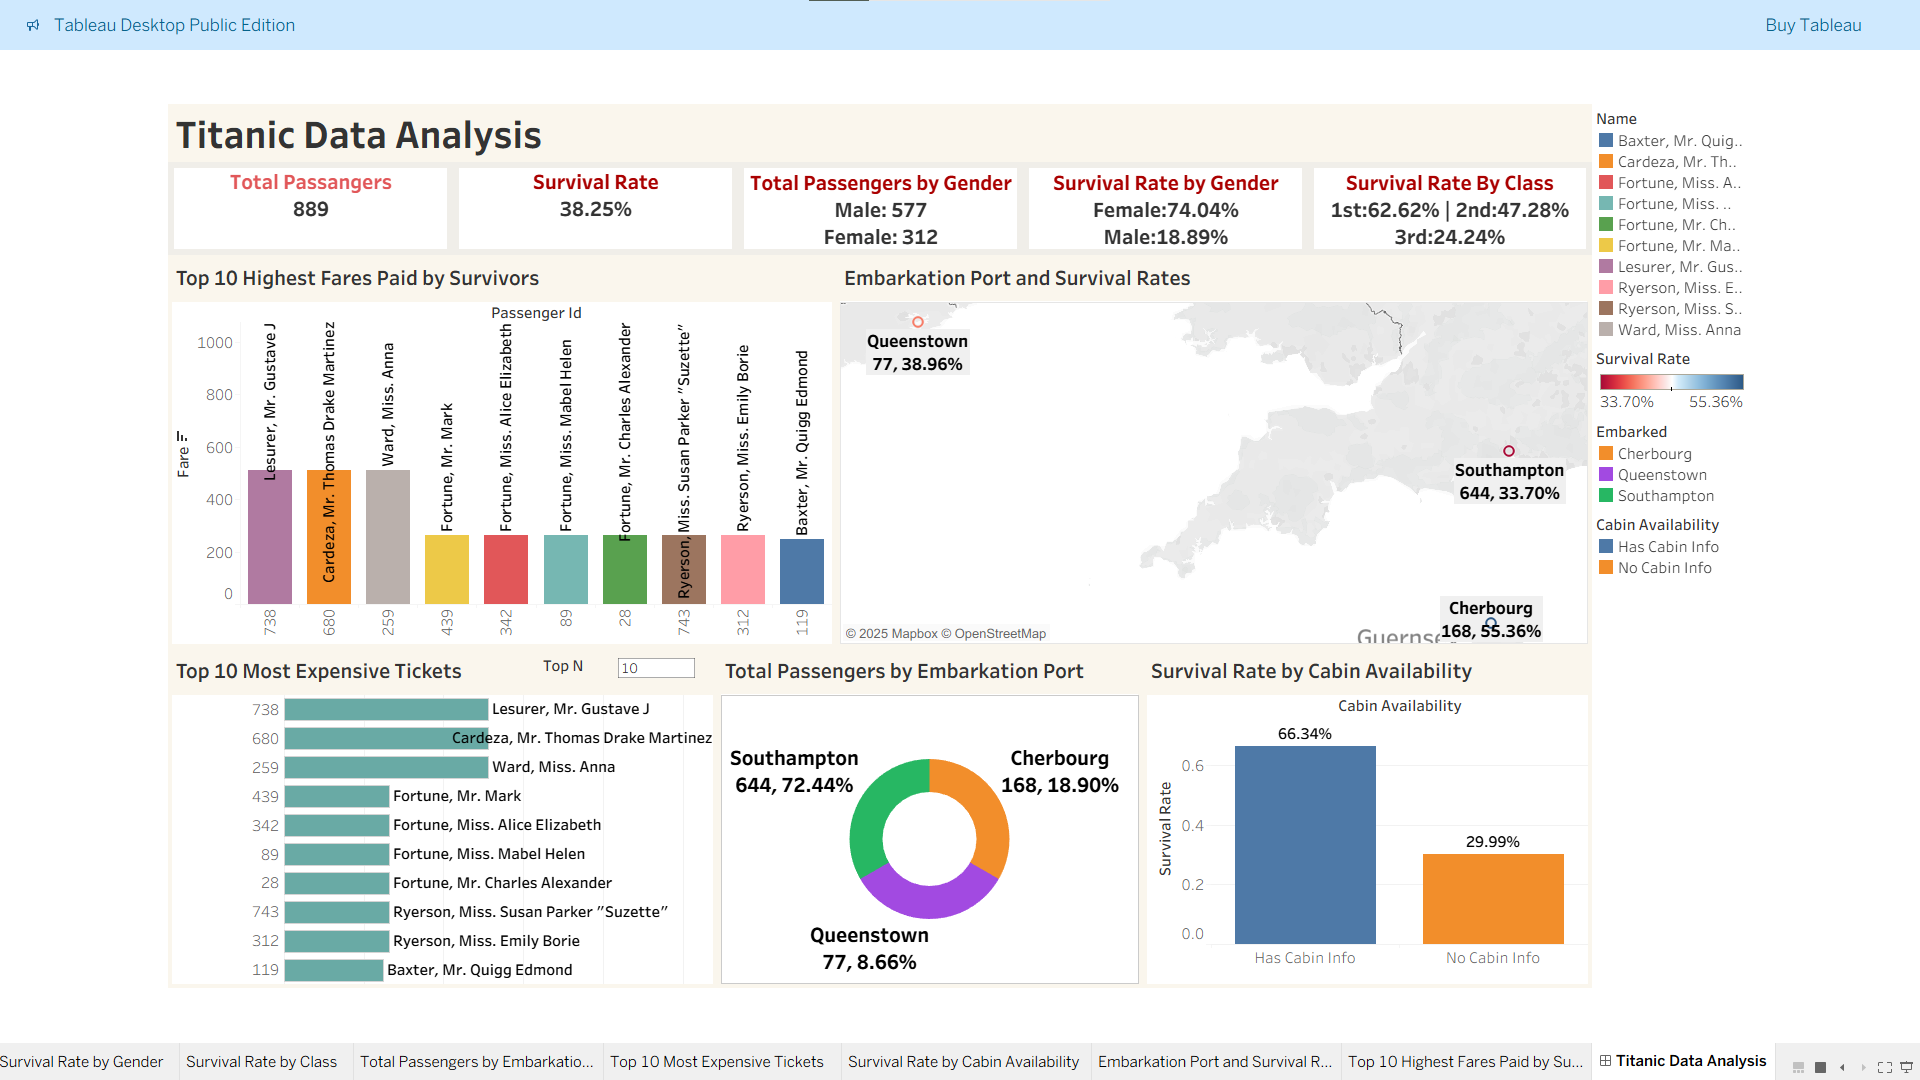

What the dashboard file says about the page in this screenshot:
{"tool":"tableau","page":{"name":"Titanic Data Analysis","canvas":[1600,900],"ordinal":0},"visuals":[{"type":"title","box":[8,8,1424,58]},{"type":"legend","title":"Top 10 Highest Fares Paid by Survivors","param":"[federated.1g5zkau03c3xbt1h0rss10n2ar2i].[none:Name:nk]","box":[1432,8,160,240]},{"type":"worksheet","title":"Total Passangers","mark":"Automatic","box":[8,66,285,93]},{"type":"worksheet","title":"Survival Rate","mark":"Automatic","box":[293,66,285,93]},{"type":"worksheet","title":"Total Passengers by Gender","mark":"Text","box":[578,66,285,93]},{"type":"worksheet","title":"Survival Rate by Gender","mark":"Automatic","box":[863,66,285,93]},{"type":"worksheet","title":"Survival Rate by Class","mark":"Automatic","box":[1148,66,284,93]},{"type":"worksheet","title":"Top 10 Highest Fares Paid by Survivors","mark":"Automatic","rows":["Fare"],"cols":["PassengerId"],"box":[8,159,668,393]},{"type":"worksheet","title":"Embarkation Port and Survival Rates","mark":"Shape","rows":["Latitude"],"cols":["Longitude"],"box":[676,159,756,393]},{"type":"legend","title":"Embarkation Port and Survival Rates","param":"[federated.1g5zkau03c3xbt1h0rss10n2ar2i].[usr:Calculation_927178610376269826:qk]","box":[1432,248,160,73]},{"type":"legend","title":"Total Passengers by Embarkation Port","param":"[federated.1g5zkau03c3xbt1h0rss10n2ar2i].[none:Embarked:nk]","box":[1432,321,160,93]},{"type":"legend","title":"Survival Rate by Cabin Availability","param":"[federated.1g5zkau03c3xbt1h0rss10n2ar2i].[none:Calculation_824440244577460224:nk","box":[1432,414,160,72]},{"type":"worksheet","title":"Top 10 Most Expensive Tickets","mark":"Automatic","rows":["PassengerId"],"cols":["Fare"],"box":[8,552,549,339.9]},{"type":"worksheet","title":"Total Passengers by Embarkation Port","mark":"Pie","rows":["Calculation_1363746299655192581","Calculation_1363746299655192581"],"box":[557,552,426,339.9]},{"type":"worksheet","title":"Survival Rate by Cabin Availability","mark":"Bar","rows":["Calculation_927178610376269826"],"cols":["Calculation_824440244577460224"],"box":[983,552,449,339.9]},{"type":"parameter","param":"[Parameters].[Parameter 1]","box":[383,559,155,36]}]}

Visuals, with their boxes on the page's 1600x900 design canvas (x1, y1, x2, y2). These are canvas units, not pixel positions in the 1920x1080 screenshot, which may show the page scaled, cropped or inside an application window:
title: [8, 8, 1432, 66]
"Top 10 Highest Fares Paid by Survivors" legend: [1432, 8, 1592, 248]
"Total Passangers" worksheet: [8, 66, 293, 159]
"Survival Rate" worksheet: [293, 66, 578, 159]
"Total Passengers by Gender" worksheet (Text marks): [578, 66, 863, 159]
"Survival Rate by Gender" worksheet: [863, 66, 1148, 159]
"Survival Rate by Class" worksheet: [1148, 66, 1432, 159]
"Top 10 Highest Fares Paid by Survivors" worksheet: [8, 159, 676, 552]
"Embarkation Port and Survival Rates" worksheet (Shape marks): [676, 159, 1432, 552]
"Embarkation Port and Survival Rates" legend: [1432, 248, 1592, 321]
"Total Passengers by Embarkation Port" legend: [1432, 321, 1592, 414]
"Survival Rate by Cabin Availability" legend: [1432, 414, 1592, 486]
"Top 10 Most Expensive Tickets" worksheet: [8, 552, 557, 892]
"Total Passengers by Embarkation Port" worksheet (Pie marks): [557, 552, 983, 892]
"Survival Rate by Cabin Availability" worksheet (Bar marks): [983, 552, 1432, 892]
parameter: [383, 559, 538, 595]
